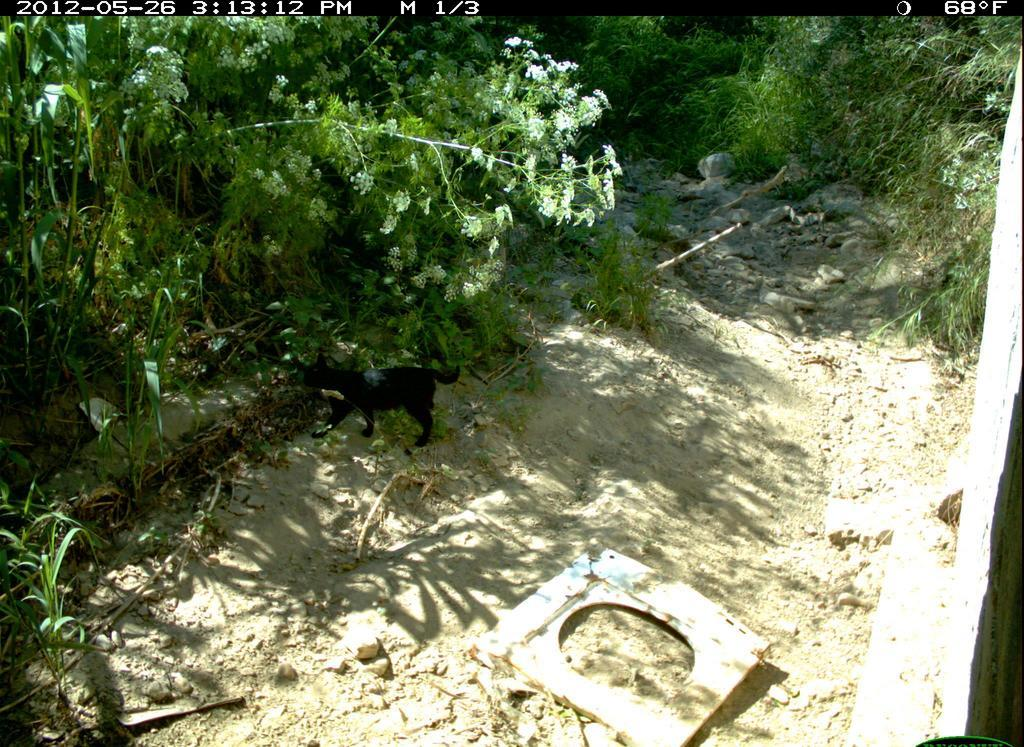cat: (285, 348, 467, 454)
